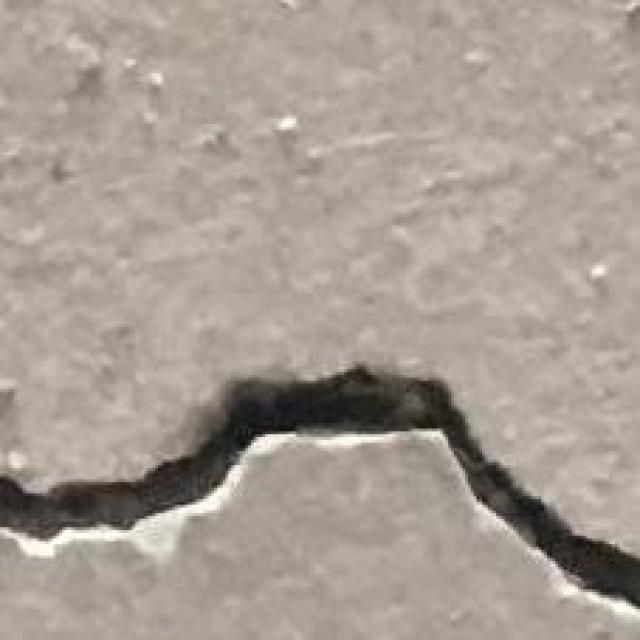curved crack: (0, 366, 639, 608)
